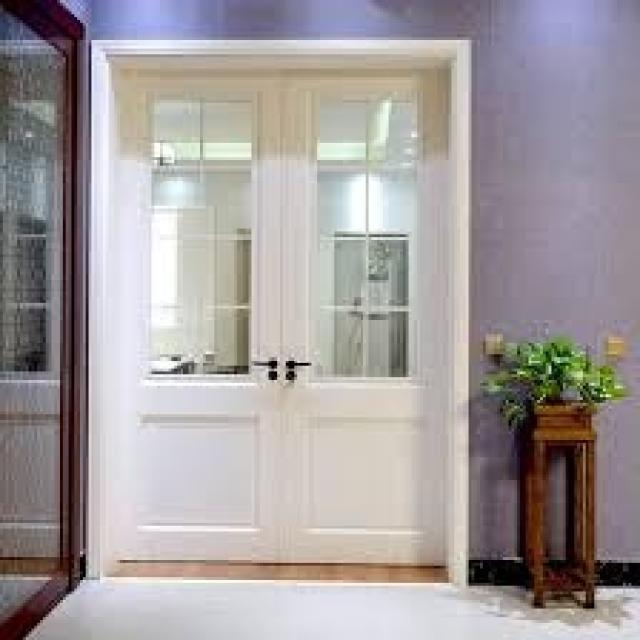door: (91, 41, 463, 573)
